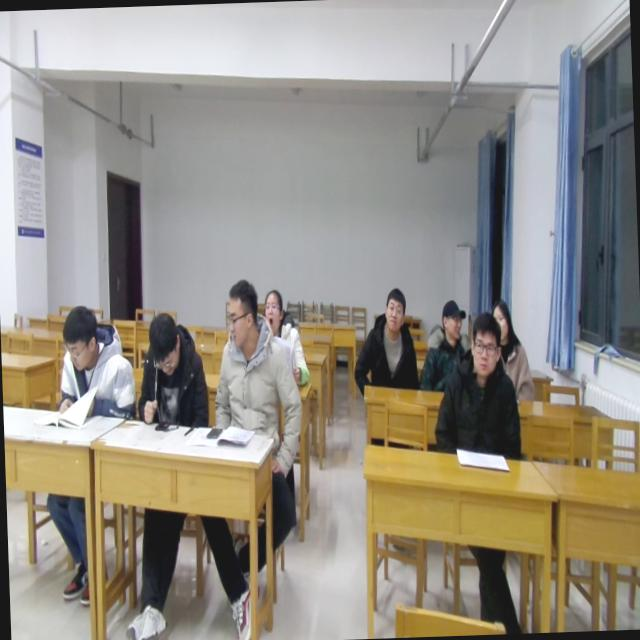down: (58, 298, 101, 376), (144, 310, 183, 380)
lookup: (467, 308, 504, 377), (380, 285, 410, 335), (258, 286, 286, 338), (488, 294, 514, 340)
sit: (208, 276, 304, 436), (428, 311, 524, 461), (53, 304, 137, 423), (132, 312, 211, 431), (348, 284, 418, 392), (415, 298, 471, 392), (488, 294, 534, 405), (263, 288, 310, 390)
